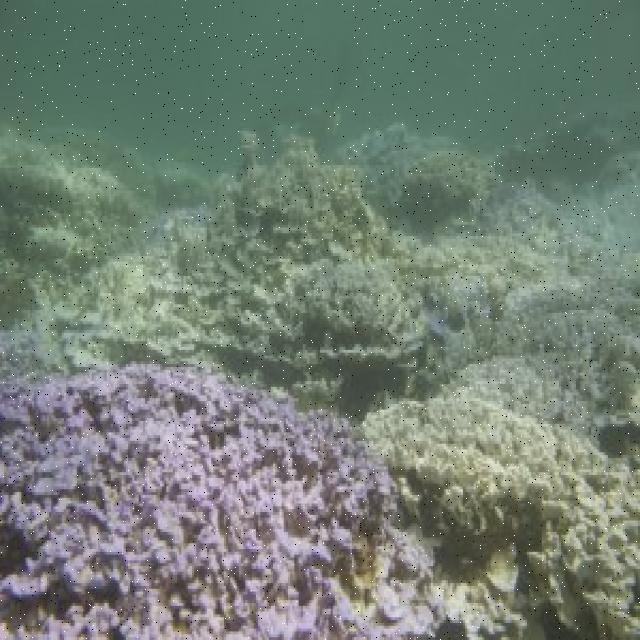Bleached: (5, 386, 378, 640), (449, 176, 640, 301)
Healthy: (387, 389, 640, 570), (3, 118, 135, 315), (219, 165, 395, 259), (291, 283, 408, 375)
